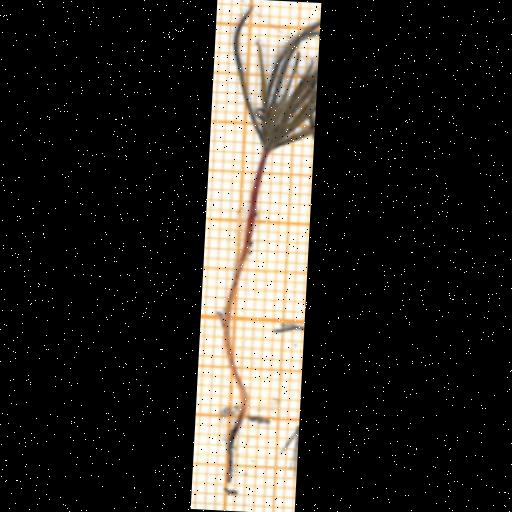flowerPinus: (234, 10, 319, 153)
rootPinus: (225, 416, 244, 487)
stemPinus: (218, 152, 266, 418)
